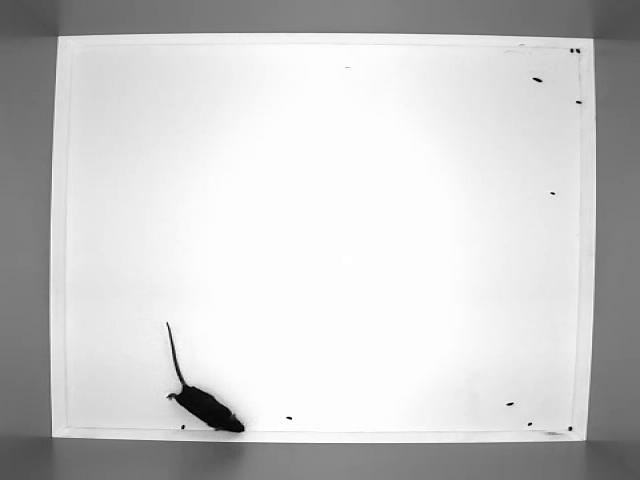Tikus: (157, 316, 250, 437)
